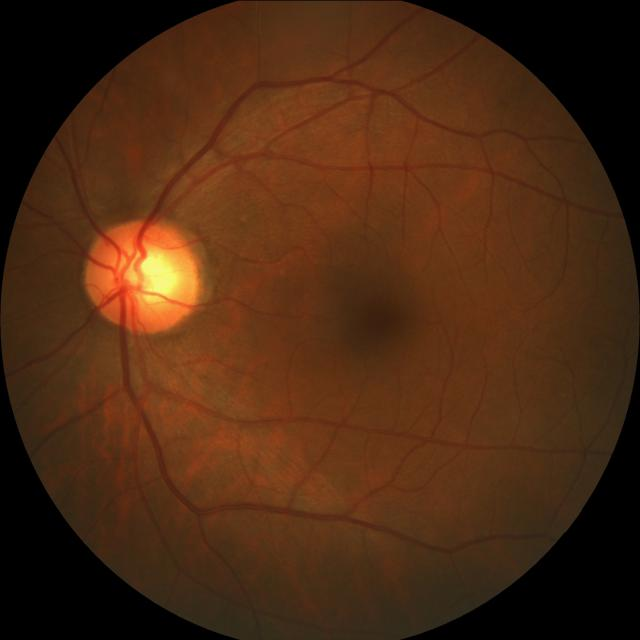OC: (110, 238, 180, 310)
OD: (84, 220, 194, 332)
